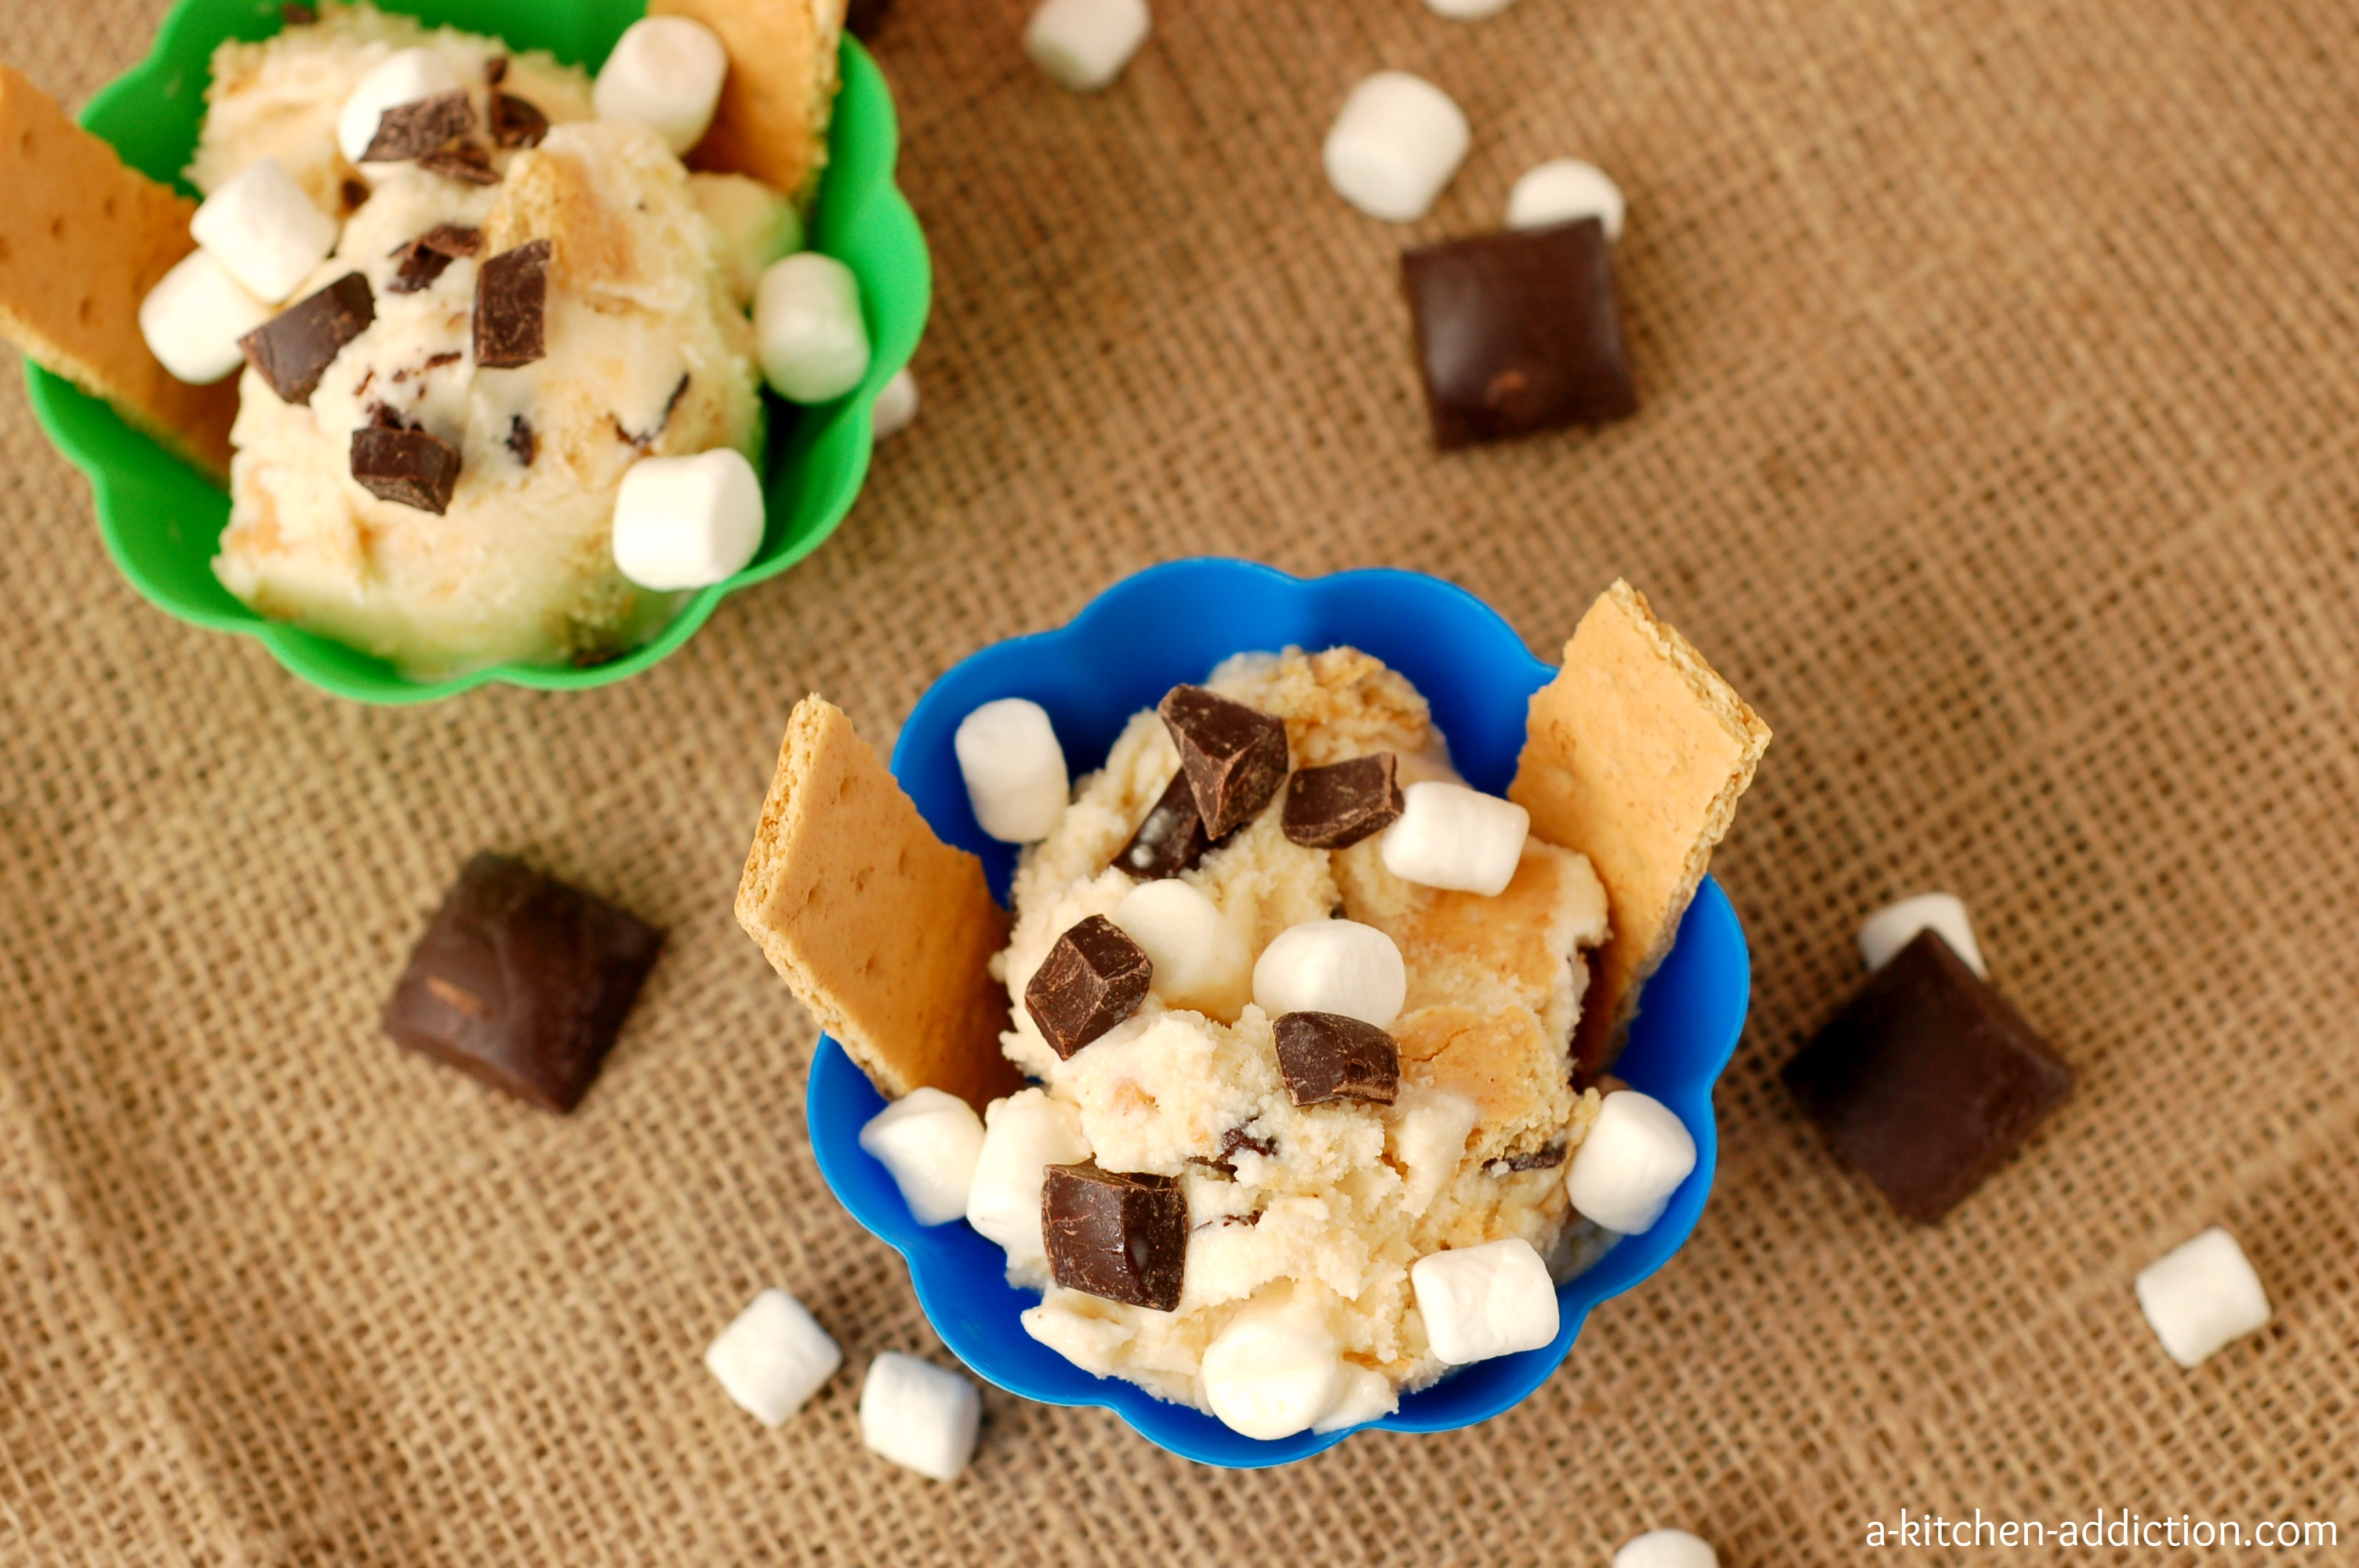ice-cream: (1031, 653, 1580, 1426), (212, 124, 759, 661)
